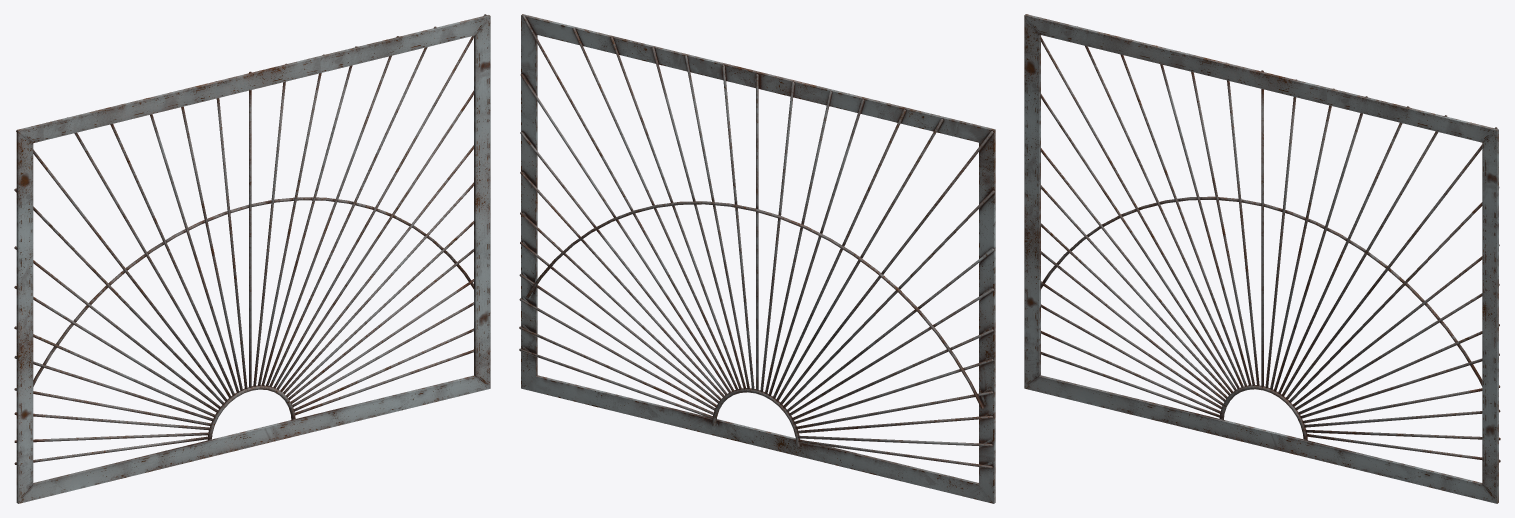
Rendered from SM_WindowWideCage01.FBX.
3 renders of one model, left to right at view 1: azimuth 30°, elevation 25°; view 2: azimuth 150°, elevation 25°; view 3: azimuth 330°, elevation 25°, orthographic.
Parts seen in each view (by area): view 1: SM_WindowWideCage01_LOD0; view 2: SM_WindowWideCage01_LOD0; view 3: SM_WindowWideCage01_LOD0.
Boxes of the visible parts, left/top/right/bottom form: SM_WindowWideCage01_LOD0: left=14, top=14, right=490, bottom=503; SM_WindowWideCage01_LOD0: left=519, top=14, right=995, bottom=503; SM_WindowWideCage01_LOD0: left=1024, top=14, right=1500, bottom=503.
Bounding box in the file's own units: 180 × 3.11 × 135.
